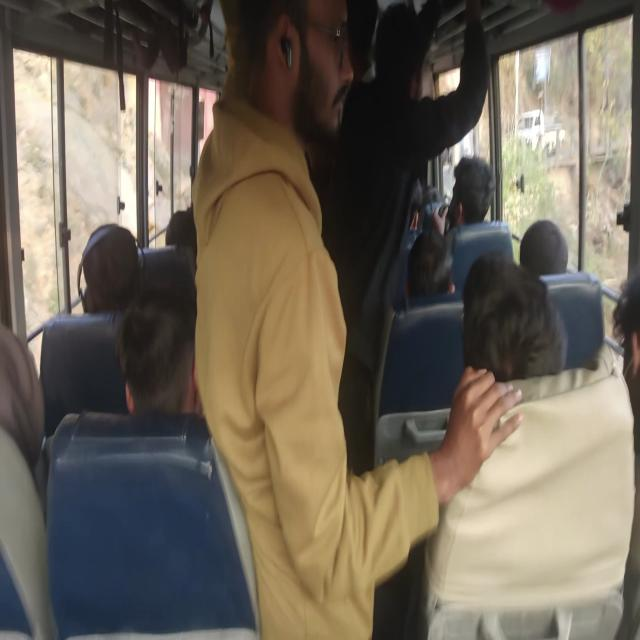person: (228, 7, 346, 151), (480, 256, 564, 426), (109, 288, 203, 426), (600, 278, 640, 521), (0, 324, 45, 495), (454, 144, 508, 266), (384, 28, 442, 118), (154, 194, 218, 272), (518, 195, 562, 286), (77, 230, 128, 305), (412, 240, 450, 298)
